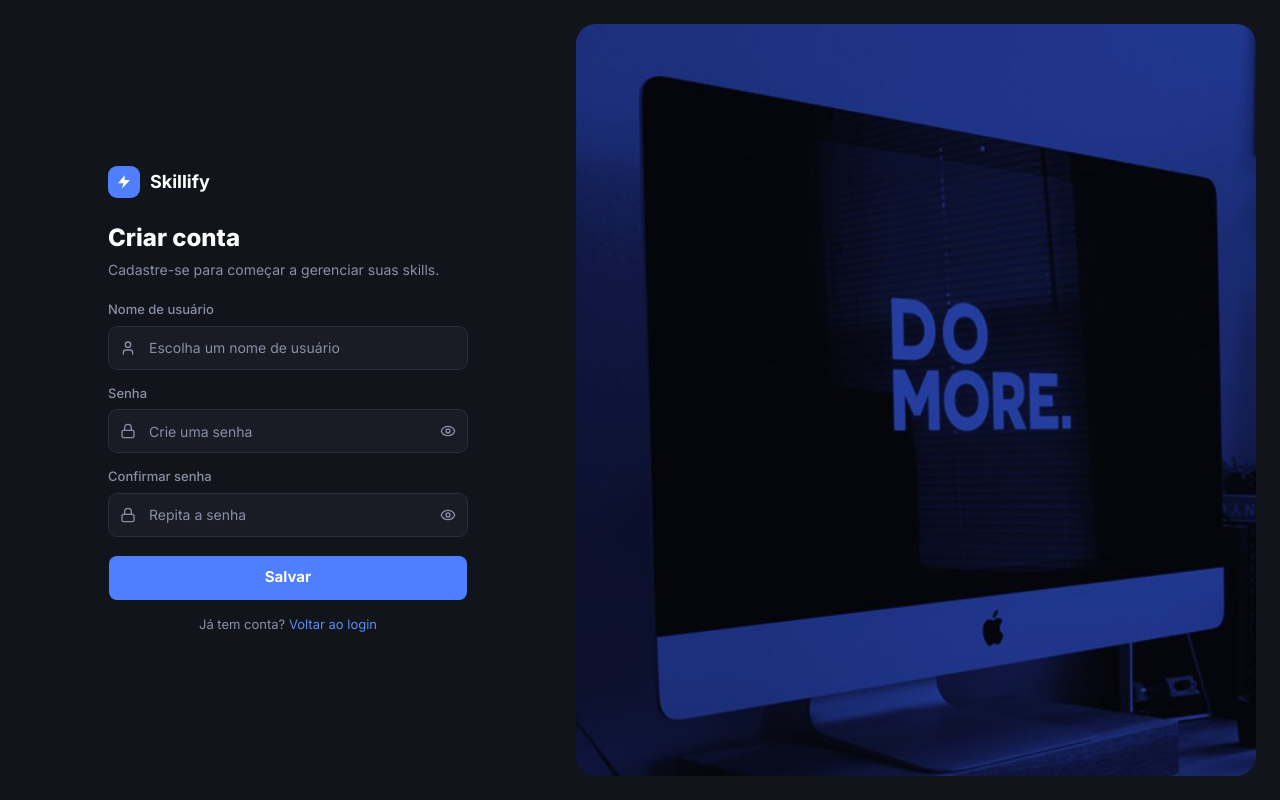
Test: Autenticação › cadastra um novo usuário e redireciona para /login
In the field with id "usuario": (288, 348) [108,326,468,370], type "novousuario"
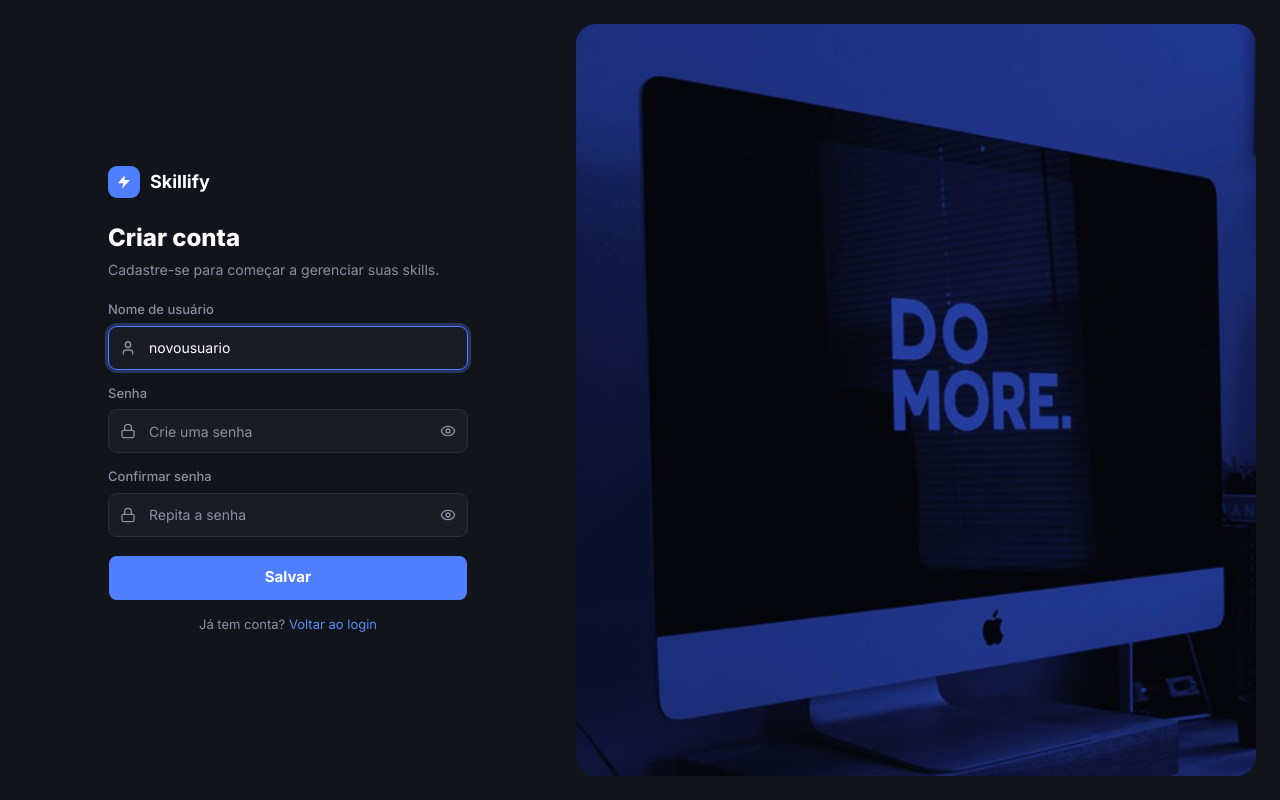
In the password field with id "senha": (288, 431) [108,409,468,453], type "senha123"
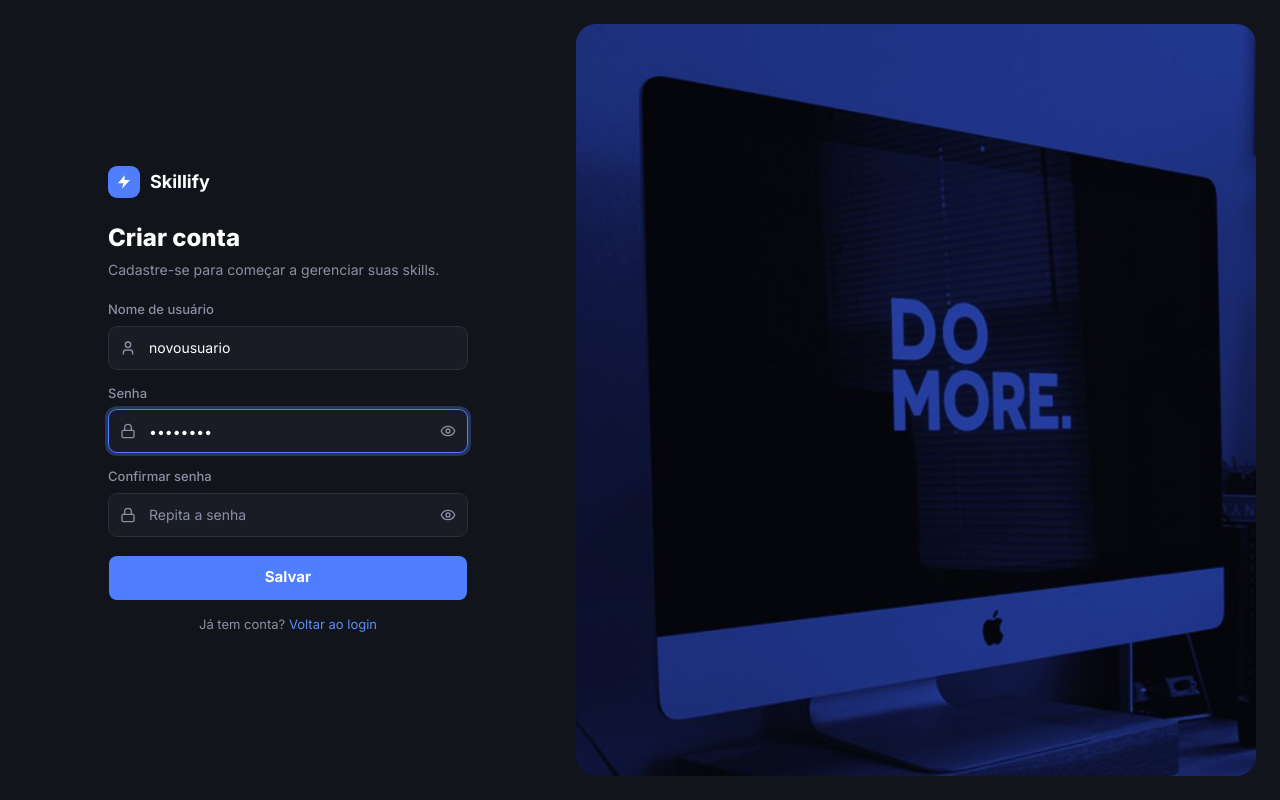
In the password field with id "confirmarSenha": (288, 515) [108,493,468,537], type "senha123"
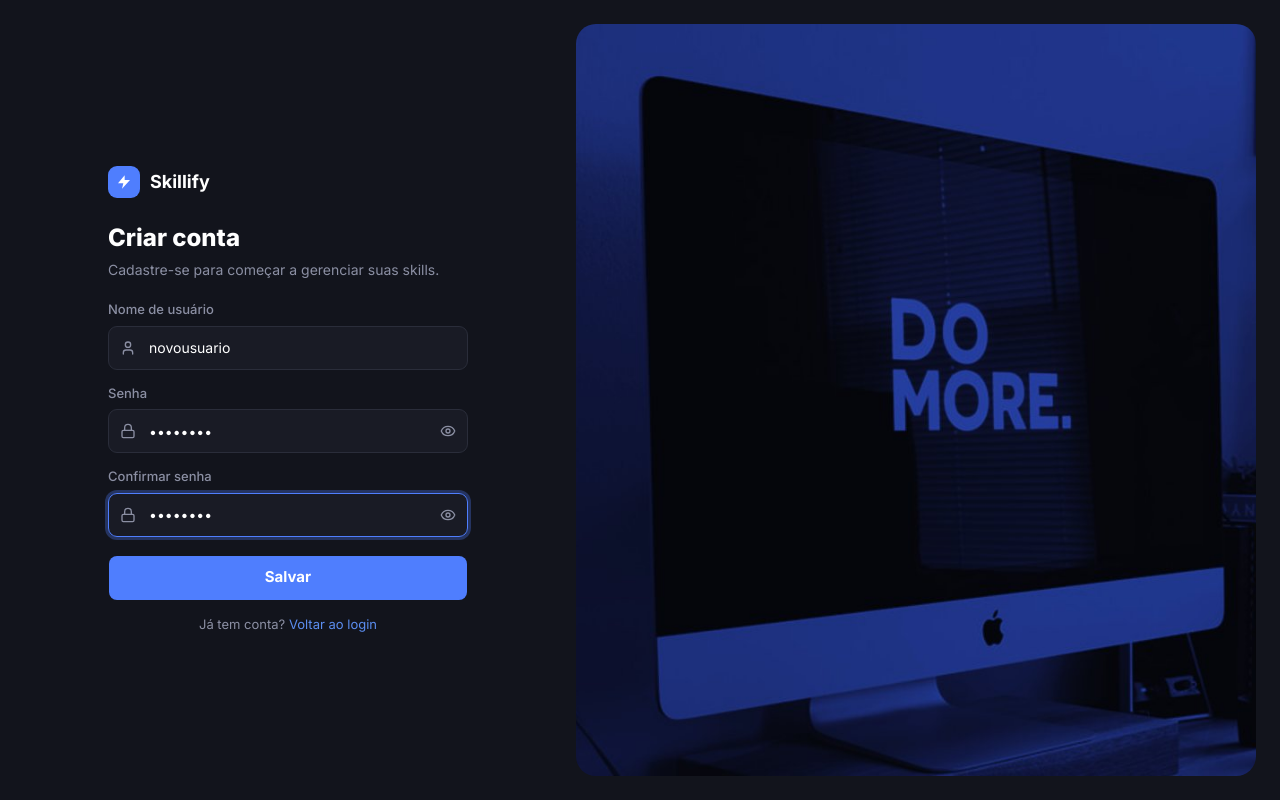
Click the button "Salvar": click(288, 578) [108,555,468,601]
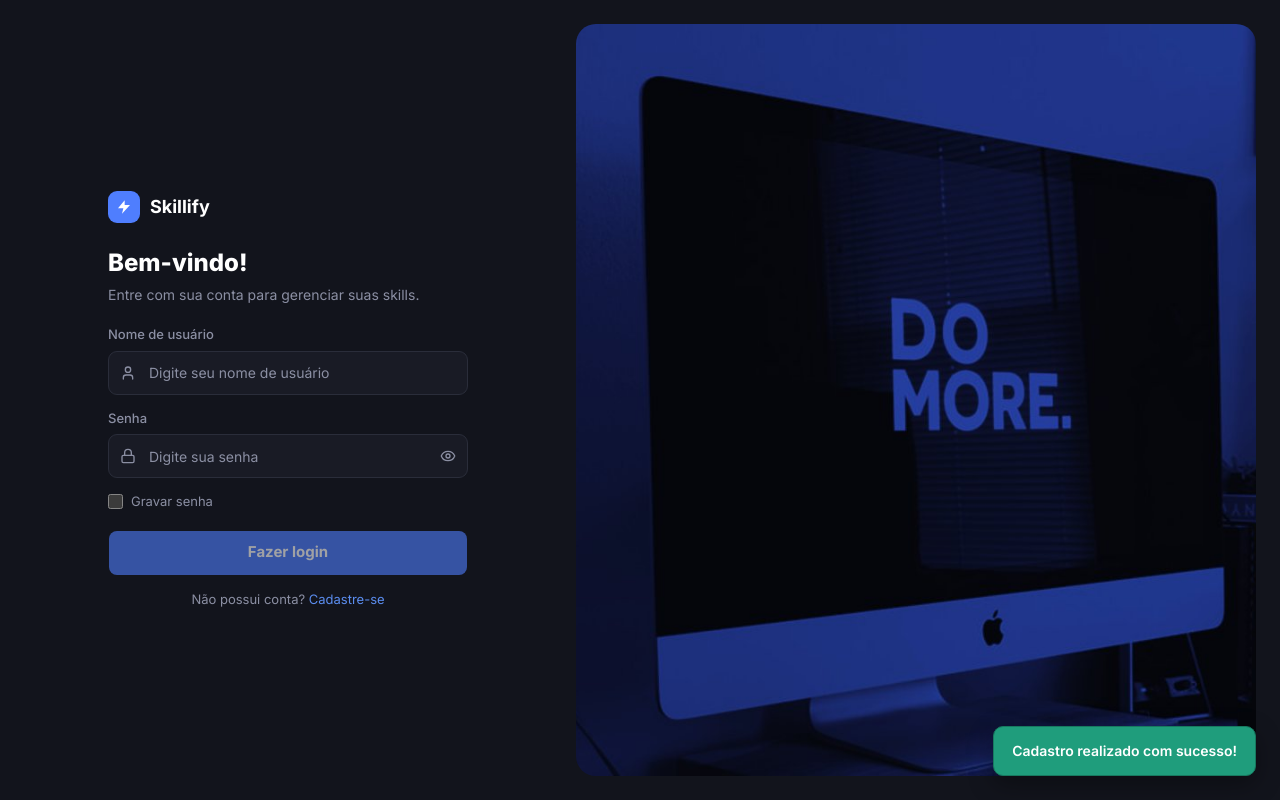
Expected: the text "Cadastro realizado com sucesso!" is shown, [993,726,1256,776]
